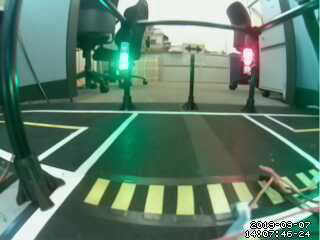Left_Right_sign: (179, 40, 206, 55)
Traffic_light_green: (119, 42, 129, 72)
Traffic_light_red: (240, 47, 254, 75)
